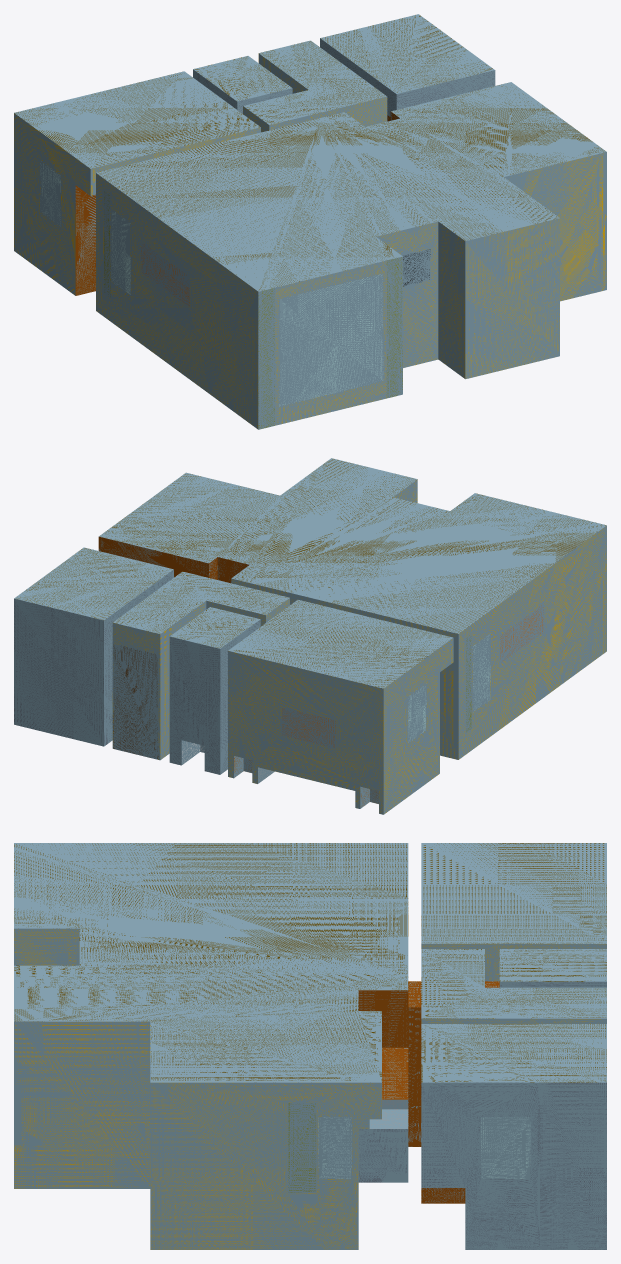
File: ASN_humans.obj
3 views of the same model, one above another, from view 1: azimuth 30°, elevation 25°; view 2: azimuth 150°, elevation 25°; view 3: azimuth 270°, elevation 25° (orthographic). The views are drawn at different scales.
Parts seen in each view (by area): view 1: SketchUp.074_ID663, SketchUp.036_ID343, SketchUp.054_ID497, SketchUp.026_ID249, SketchUp.002_ID25.002, SketchUp.038_ID359, SketchUp.040_ID379, SketchUp.034_ID323, SketchUp.051_ID471, SketchUp.021_ID201.002, SketchUp.027_ID259, SketchUp.037_ID351 (+9 smaller); view 2: SketchUp.074_ID663, SketchUp.038_ID359, SketchUp.054_ID497, SketchUp.021_ID201.002, SketchUp.026_ID249, SketchUp.019_ID181.002, SketchUp.040_ID379, SketchUp.025_ID241, SketchUp.034_ID323, SketchUp.035_ID331, SketchUp.044_ID411, SketchUp.027_ID259 (+5 smaller); view 3: SketchUp.074_ID663, SketchUp.036_ID343, SketchUp.021_ID201.002, SketchUp.026_ID249, SketchUp.040_ID379, SketchUp.034_ID323, SketchUp.027_ID259, SketchUp.044_ID411, SketchUp.004_ID45.002, SketchUp.047_ID439, SketchUp.003_ID35.002, SketchUp.017_ID163.002 (+6 smaller).
Part boxes in pixels (left/top/right/bottom): SketchUp.074_ID663: left=96, top=82, right=606, bottom=291; SketchUp.036_ID343: left=376, top=152, right=606, bottom=379; SketchUp.054_ID497: left=96, top=173, right=258, bottom=429; SketchUp.026_ID249: left=14, top=71, right=260, bottom=168; SketchUp.002_ID25.002: left=279, top=273, right=383, bottom=406; SketchUp.038_ID359: left=14, top=113, right=260, bottom=295; SketchUp.040_ID379: left=320, top=14, right=494, bottom=93; SketchUp.034_ID323: left=243, top=40, right=386, bottom=124; SketchUp.051_ID471: left=275, top=260, right=386, bottom=425; SketchUp.021_ID201.002: left=320, top=38, right=495, bottom=116; SketchUp.027_ID259: left=193, top=56, right=291, bottom=101; SketchUp.037_ID351: left=386, top=256, right=402, bottom=398; SketchUp.074_ID663: left=99, top=458, right=606, bottom=633; SketchUp.038_ID359: left=228, top=638, right=453, bottom=814; SketchUp.054_ID497: left=231, top=525, right=606, bottom=759; SketchUp.021_ID201.002: left=14, top=569, right=173, bottom=746; SketchUp.026_ID249: left=228, top=599, right=452, bottom=688; SketchUp.019_ID181.002: left=169, top=619, right=260, bottom=774; SketchUp.040_ID379: left=14, top=547, right=173, bottom=620; SketchUp.025_ID241: left=113, top=644, right=158, bottom=759; SketchUp.034_ID323: left=113, top=571, right=289, bottom=633; SketchUp.035_ID331: left=112, top=598, right=289, bottom=760; SketchUp.044_ID411: left=98, top=536, right=249, bottom=583; SketchUp.027_ID259: left=170, top=607, right=260, bottom=648; SketchUp.074_ID663: left=14, top=843, right=408, bottom=1082; SketchUp.036_ID343: left=14, top=928, right=381, bottom=1249; SketchUp.021_ID201.002: left=421, top=1082, right=606, bottom=1249; SketchUp.026_ID249: left=421, top=843, right=606, bottom=943; SketchUp.040_ID379: left=421, top=1024, right=606, bottom=1082; SketchUp.034_ID323: left=421, top=949, right=606, bottom=1018; SketchUp.027_ID259: left=499, top=949, right=606, bottom=981; SketchUp.044_ID411: left=358, top=990, right=408, bottom=1099; SketchUp.004_ID45.002: left=481, top=1117, right=530, bottom=1178; SketchUp.047_ID439: left=358, top=1129, right=408, bottom=1182; SketchUp.003_ID35.002: left=288, top=1103, right=316, bottom=1192; SketchUp.017_ID163.002: left=408, top=981, right=421, bottom=1146.
Bounding box in the file's own units: 7.36 × 2.4 × 7.7.
